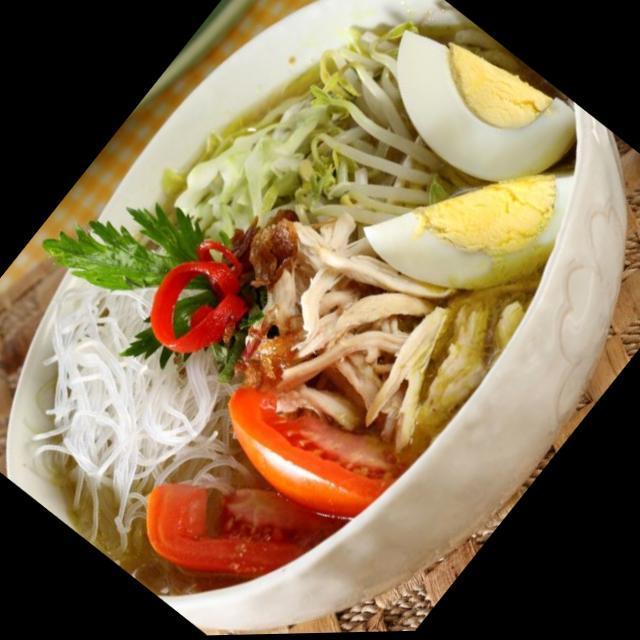Soto: (28, 16, 579, 597)
